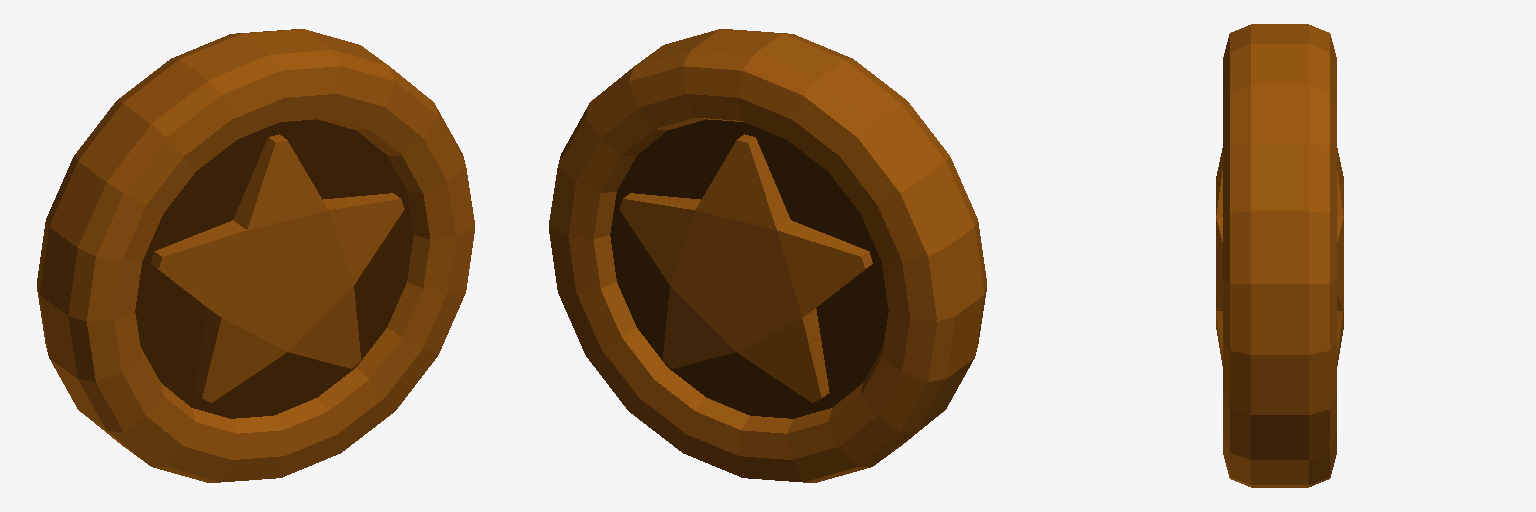
The model's file is Coin.obj.
3 renders of one model, left to right at view 1: azimuth 30°, elevation 25°; view 2: azimuth 150°, elevation 25°; view 3: azimuth 270°, elevation 25°, orthographic.
Parts seen in each view (by area): view 1: Coin_Cylinder.012; view 2: Coin_Cylinder.012; view 3: Coin_Cylinder.012.
Boxes of the visible parts, box(x1,y1,x2,y2) form: Coin_Cylinder.012: box(37, 29, 474, 482); Coin_Cylinder.012: box(549, 29, 986, 482); Coin_Cylinder.012: box(1216, 24, 1343, 487).
Size of the model in its own units: 1.92 by 1.92 by 0.5234.